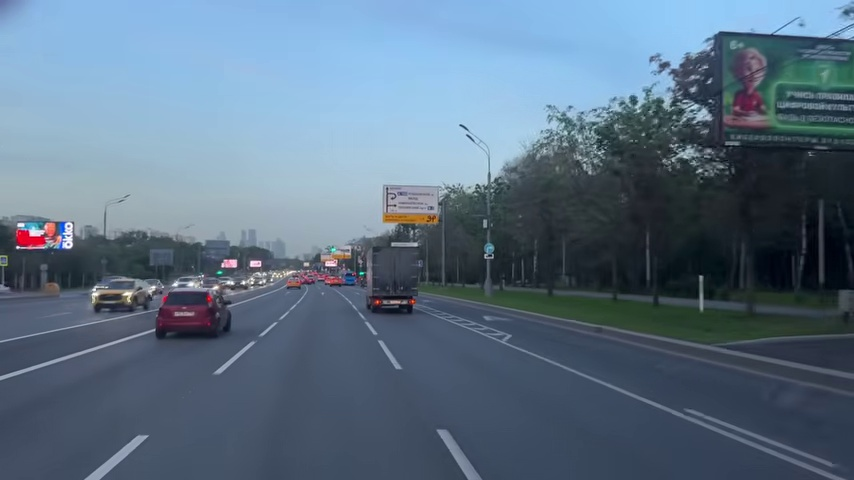apagada: (115, 432, 150, 465), (455, 121, 477, 146), (116, 191, 132, 206)
